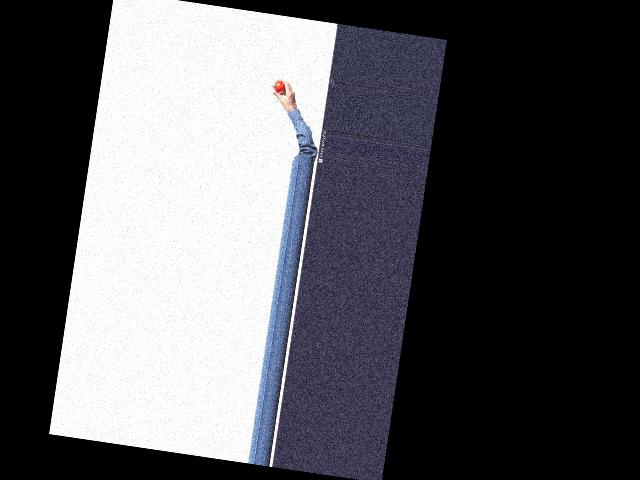tomato: (274, 79, 285, 92)
